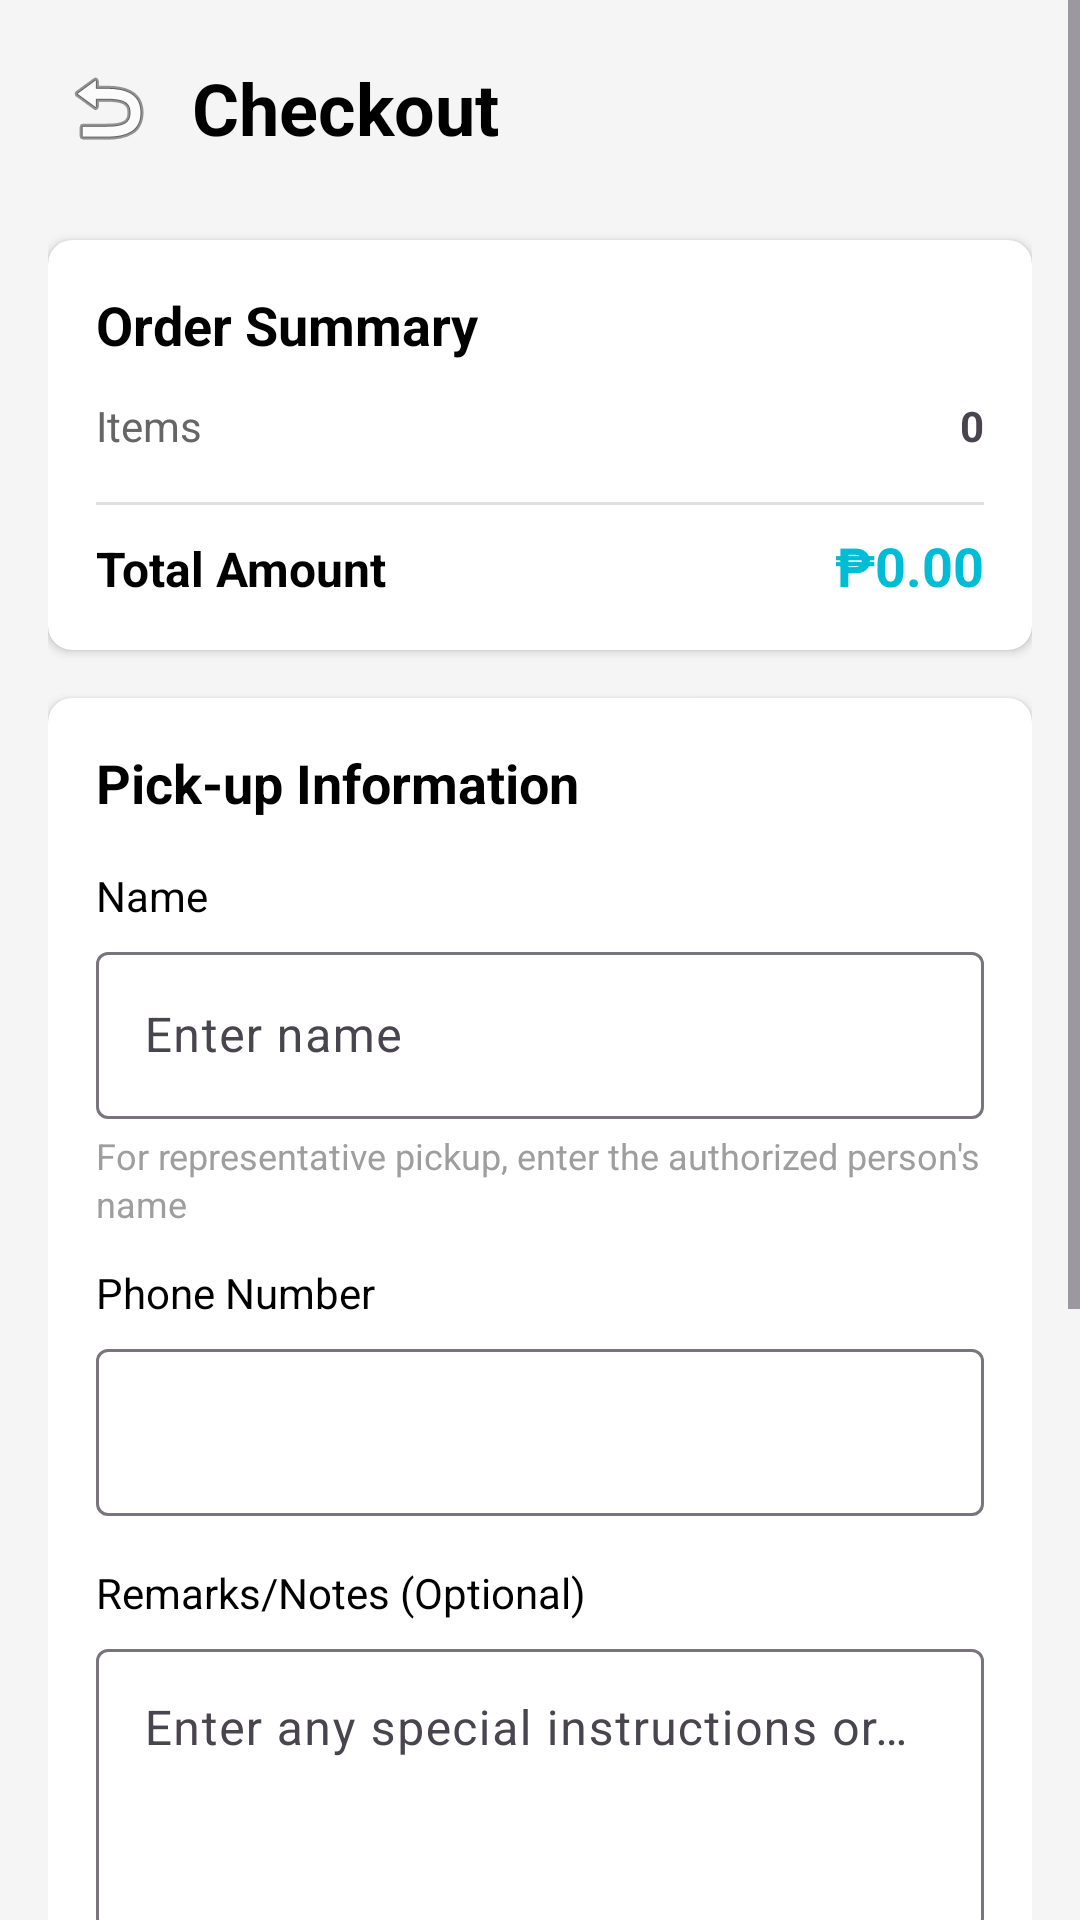

Where to tap for icons on this 1080w x 1920h app screen, as (x,y):
Back: (109,108)
